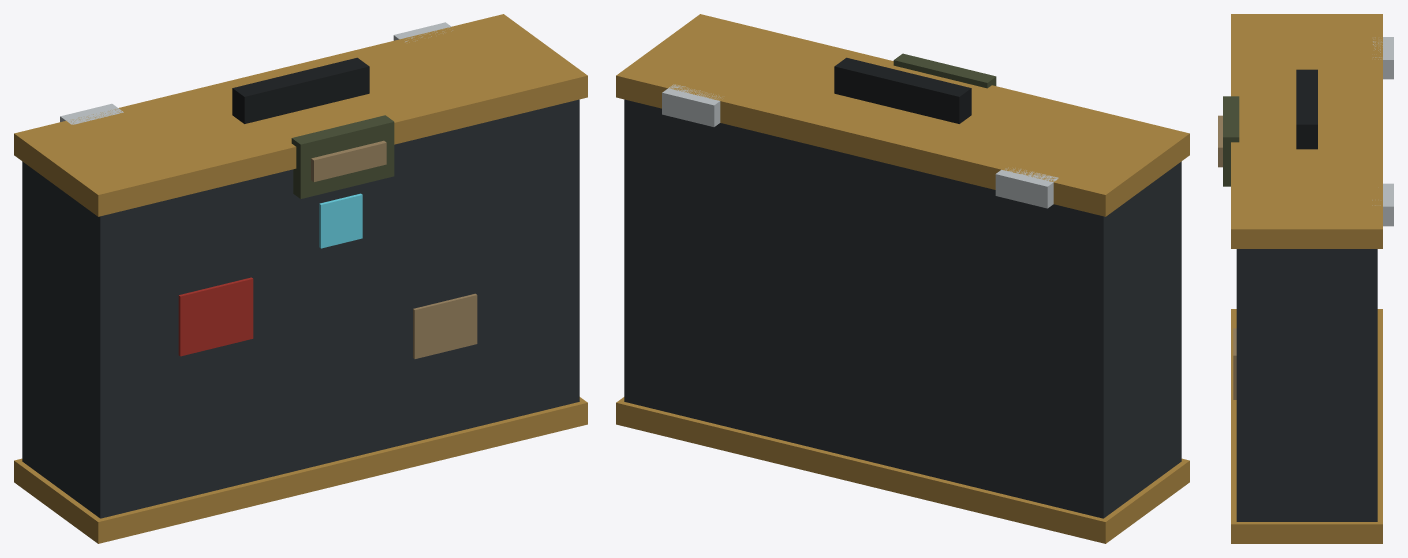
The model's file is case.glb.
The picture shows the model from 3 angles, left to right: view 1: azimuth 30°, elevation 25°; view 2: azimuth 150°, elevation 25°; view 3: azimuth 270°, elevation 25°; orthographic projection. The views are drawn at different scales.
Visible parts, largest first — view 1: case; view 2: case; view 3: case.
Part boxes in pixels (x1,y1,x2,y2): case: (14, 14, 587, 543); case: (616, 14, 1189, 543); case: (1218, 14, 1393, 543).
Size of the model in its own units: 0.47 by 0.345 by 0.162.
